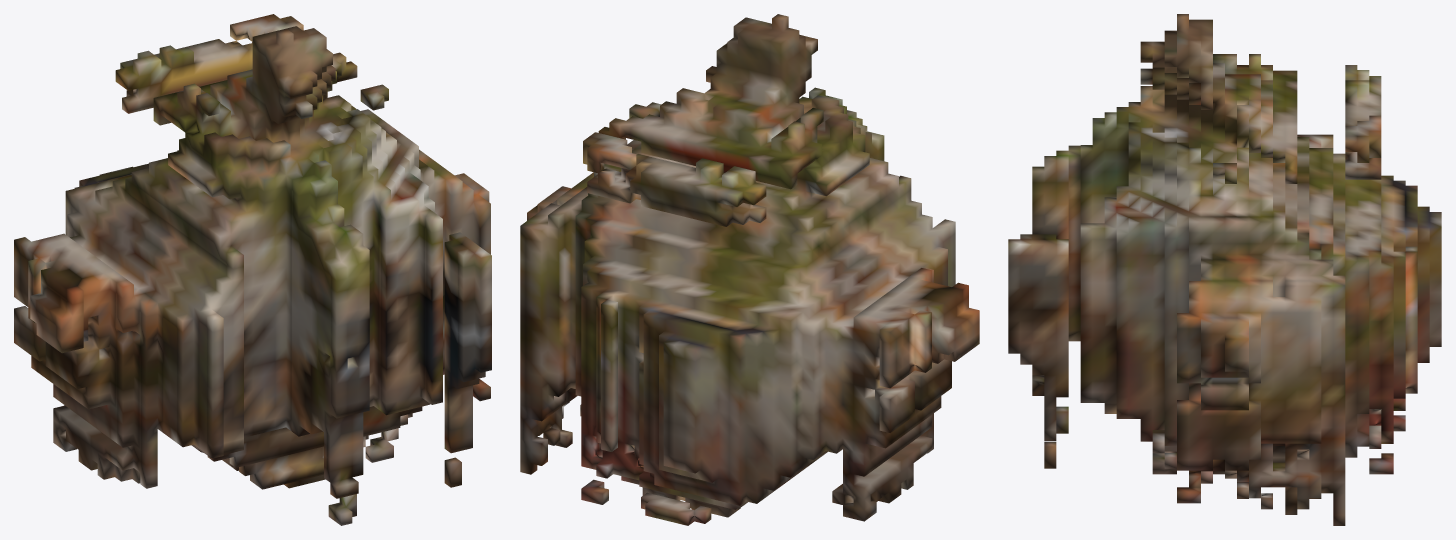
File: sheet4_L10.glb
The picture shows the model from 3 angles, left to right: view 1: azimuth 30°, elevation 25°; view 2: azimuth 150°, elevation 25°; view 3: azimuth 270°, elevation 25°; orthographic projection. The views are drawn at different scales.
Parts seen in each view (by area): view 1: BPT_sheet4_L10; view 2: BPT_sheet4_L10; view 3: BPT_sheet4_L10.
Part boxes in pixels (left/top/right/bottom): BPT_sheet4_L10: left=14, top=14, right=491, bottom=525; BPT_sheet4_L10: left=520, top=14, right=979, bottom=525; BPT_sheet4_L10: left=1008, top=14, right=1441, bottom=525.
Size of the model in its own units: 2.05 by 2 by 1.85.
